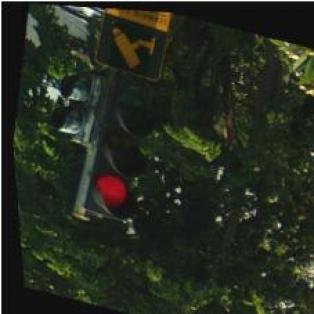Semaforo Rojo: (71, 72, 172, 227)
